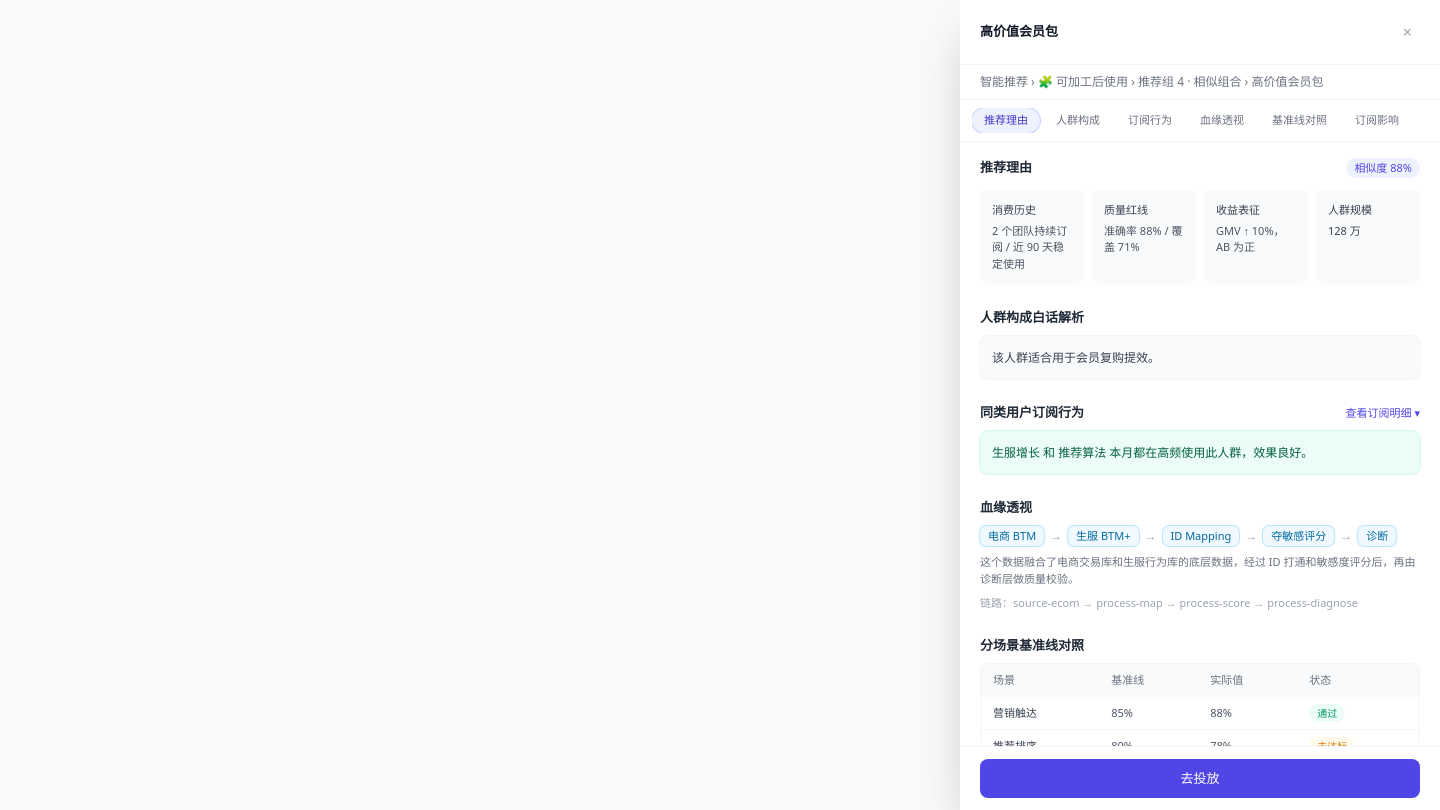
AssetDrawer › 打开抽屉时展示段落面包屑并支持展开订阅明细
expect the text "智能推荐 › 🧩 可加工后使用 › 推荐组 4 · 相似组合 › 高价值会员包" is shown: met, box x1=960 y1=65 x2=1439 y2=100
expect the heading "同类用户订阅行为" is shown: met, box x1=980 y1=403 x2=1084 y2=422
Click the button "查看订阅明细 ▾" at [1383, 413], box x1=1346 y1=404 x2=1420 y2=421
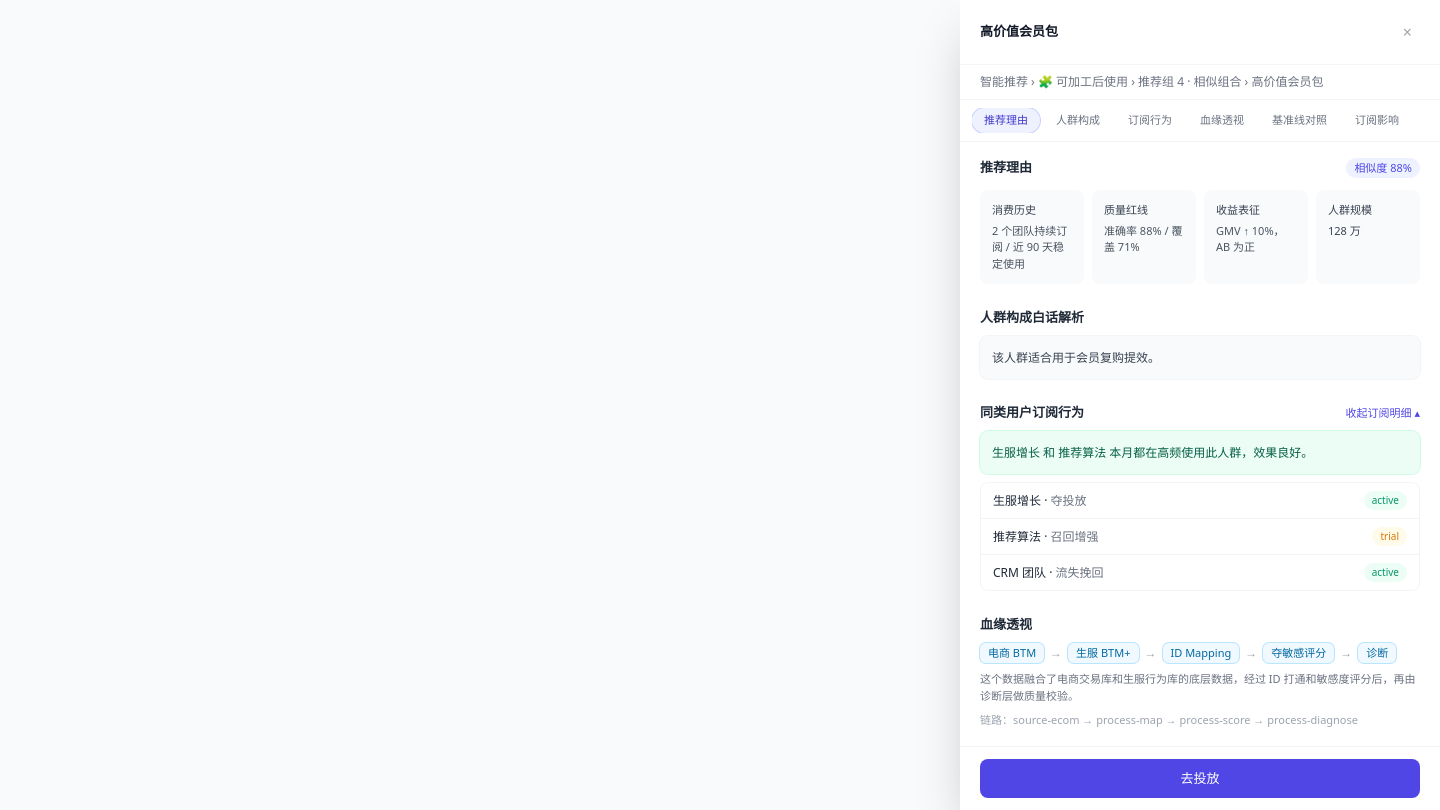
expect the text "生服增长 ·" is shown: met, box x1=993 y1=492 x2=1086 y2=510
expect the text "推荐算法 ·" is shown: met, box x1=993 y1=528 x2=1098 y2=546
